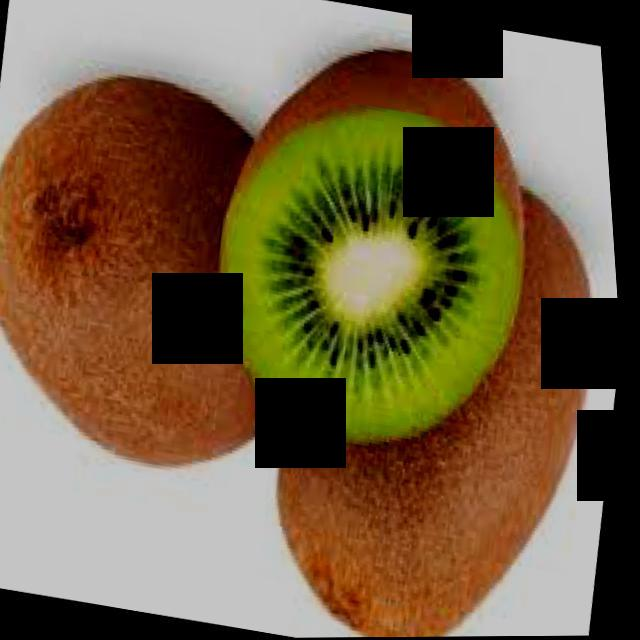kiwi: (234, 151, 640, 640), (1, 51, 360, 494)
